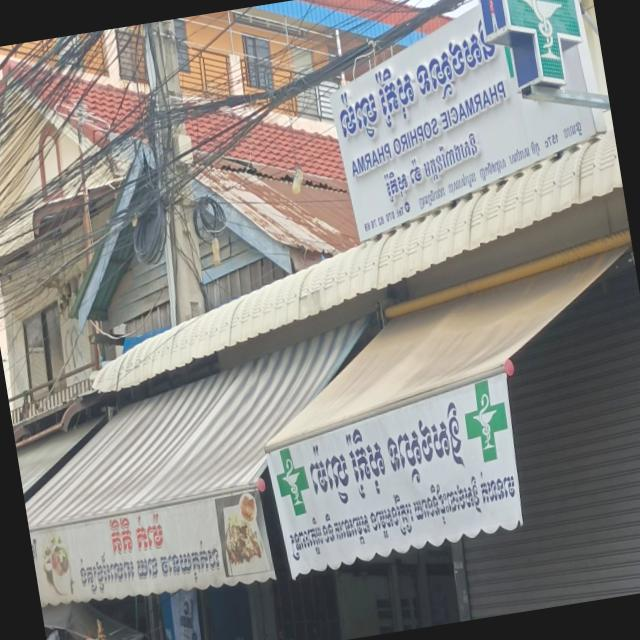1: (106, 507, 166, 557)
2: (331, 13, 507, 153), (304, 391, 474, 515), (76, 538, 224, 603)
4: (414, 135, 547, 215)
5: (285, 456, 523, 571)
893: (376, 124, 485, 208)
Yolov11_80vkh: (560, 117, 586, 148)
